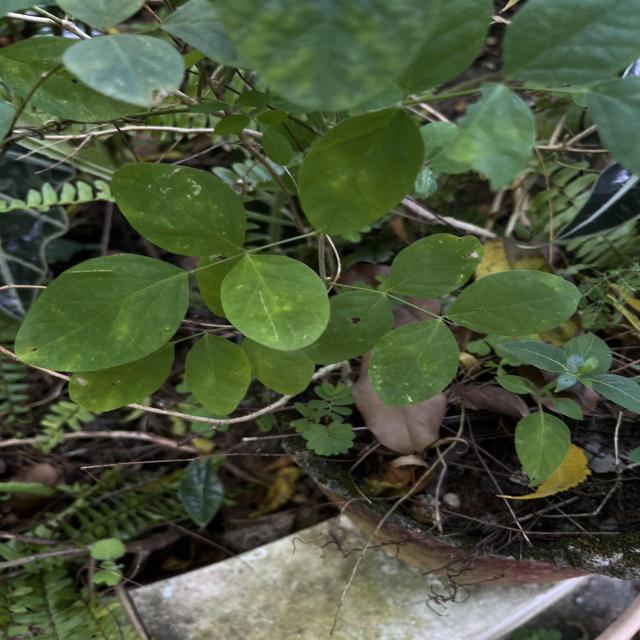Clitoria ternatea: (13, 250, 192, 374), (110, 160, 248, 258), (219, 253, 332, 351), (444, 268, 582, 338), (366, 318, 462, 408), (386, 232, 484, 300)
